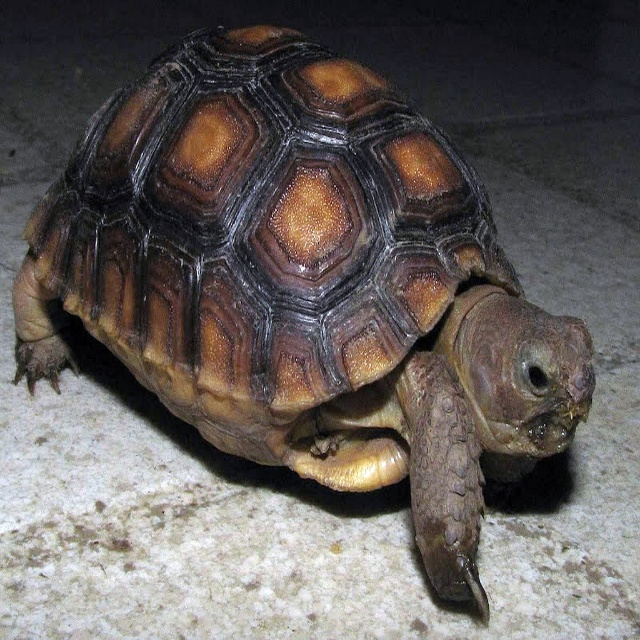Sea turtle: (10, 21, 597, 619)
